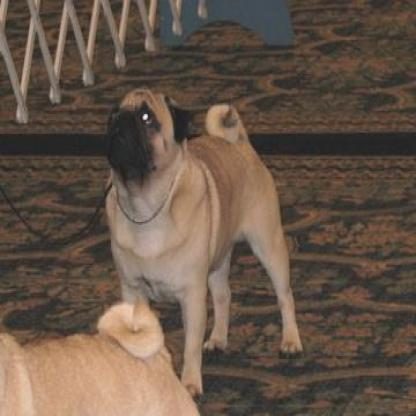pug: (104, 85, 302, 398), (103, 83, 298, 394), (0, 297, 198, 413)
